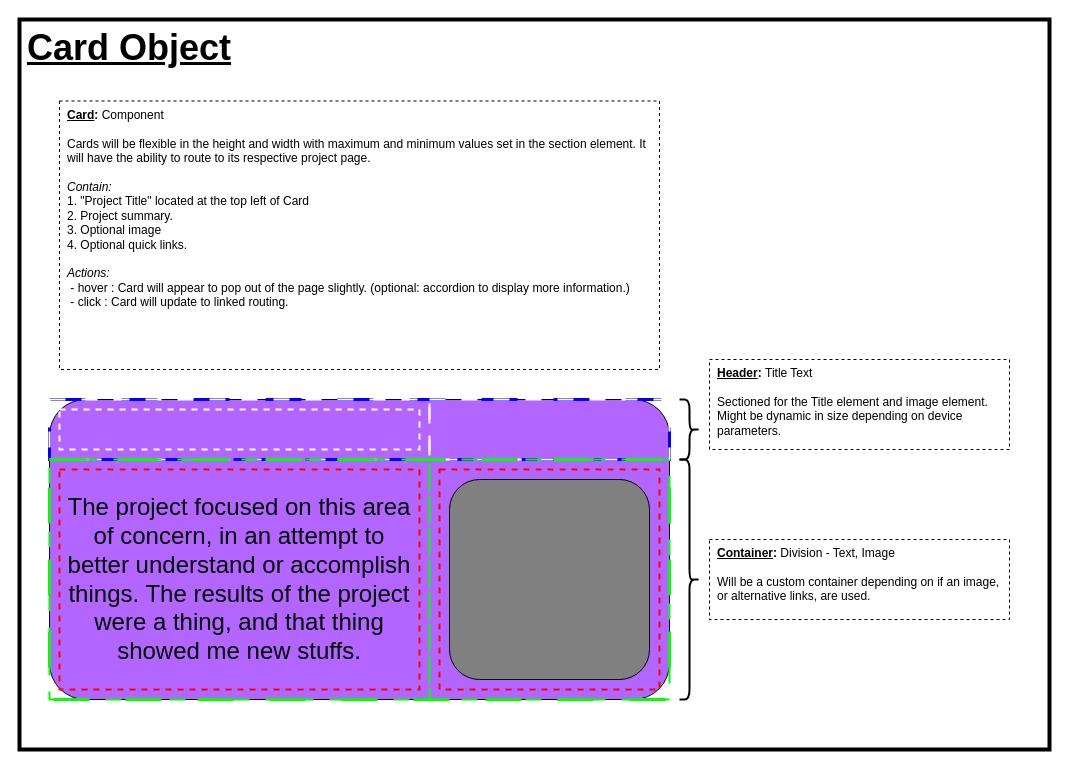
The diagram is 1068 pixels wide and 768 high, and some of its shapes have lost their labels. Here are the shapes that lost their labels. From the top down, the box of each, then its label:
(58, 408, 420, 450): Project Title
(448, 478, 650, 680): IMAGE
